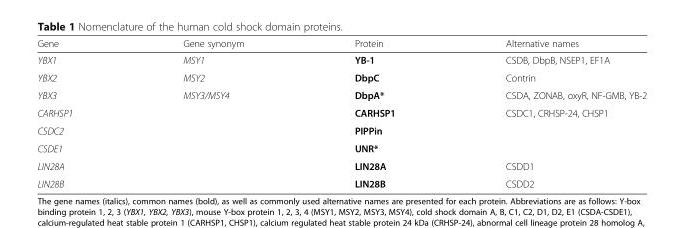table: (36, 37, 646, 189)
table column: (449, 37, 646, 189), (127, 37, 298, 189), (298, 37, 449, 189), (36, 37, 127, 189)
table column header: (36, 37, 646, 51)
table row: (36, 68, 646, 86), (36, 103, 646, 121), (36, 121, 646, 139), (36, 156, 646, 174), (36, 51, 646, 68), (36, 86, 646, 103), (36, 139, 646, 156), (36, 174, 646, 189), (36, 37, 646, 51)
